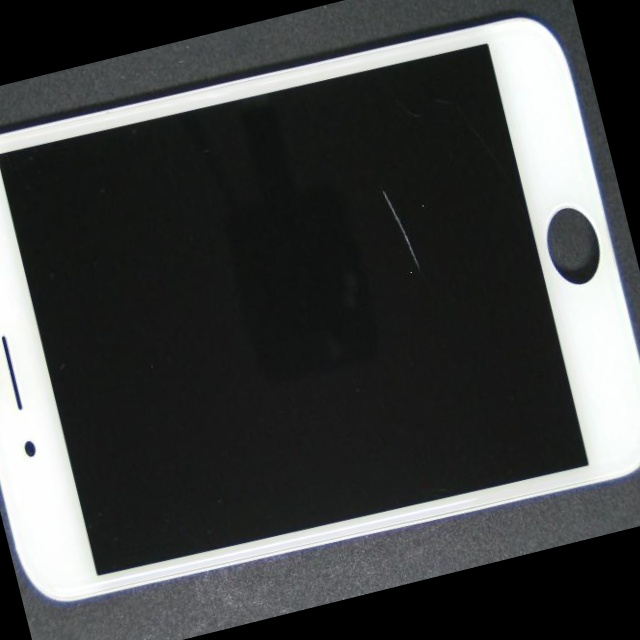scratch: (157, 96, 640, 502)
